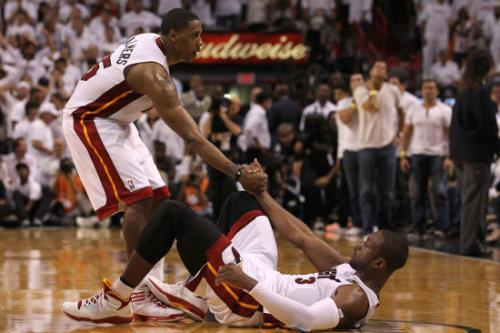10+: (1, 1, 499, 333)
down: (57, 182, 415, 333)
